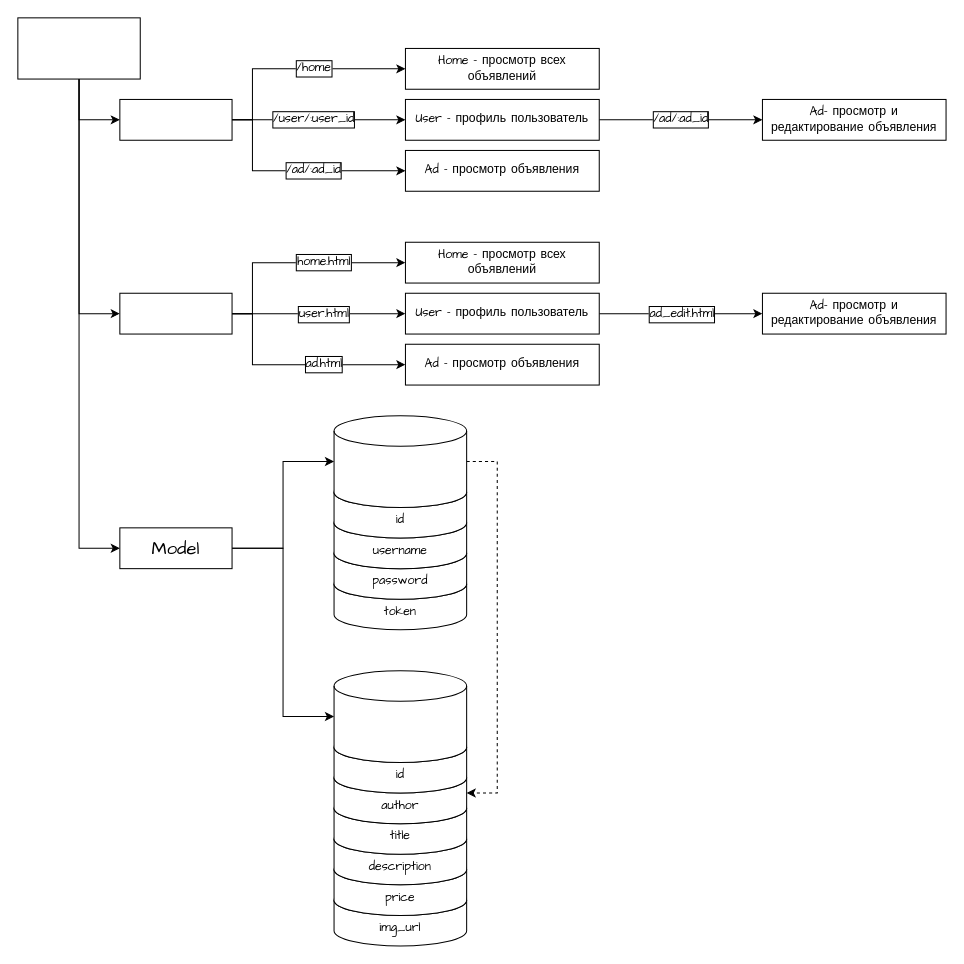
Some shapes in this 964 by 964 pixel diagram are drawn without their labels. Here are the shapes that lost their labels. From the top down, the centre of each, then its label:
At point 78,48: "OLX".
At point 175,119: "Router".
At point 175,313: "View".
At point 400,461: "User".
At point 400,716: "Ad".
